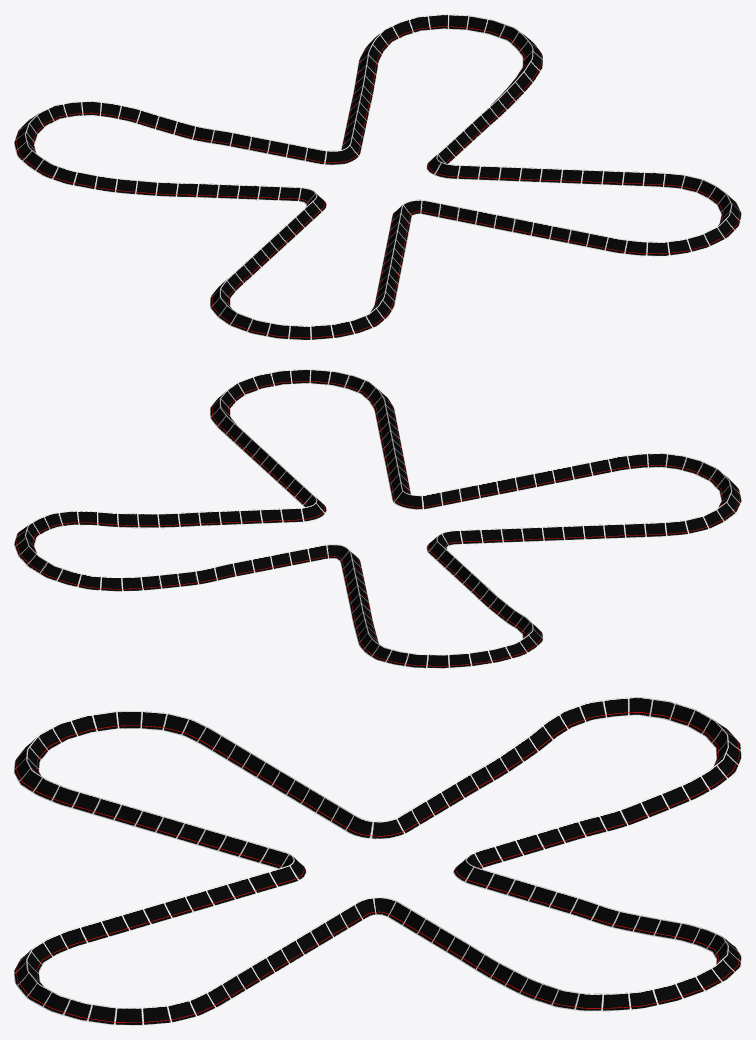
File: Circular-experiment2.fbx
The picture shows the model from 3 angles, top to bottom: view 1: azimuth 30°, elevation 25°; view 2: azimuth 150°, elevation 25°; view 3: azimuth 270°, elevation 25°; orthographic projection. The views are drawn at different scales.
Visible parts, largest first — view 1: ramp.001; view 2: ramp.001; view 3: ramp.001.
Boxes of the visible parts, left/top/right/bottom form: ramp.001: left=14, top=14, right=741, bottom=340; ramp.001: left=14, top=369, right=741, bottom=668; ramp.001: left=14, top=697, right=741, bottom=1025.
Size of the model in its own units: 1003 by 46.71 by 1004.
